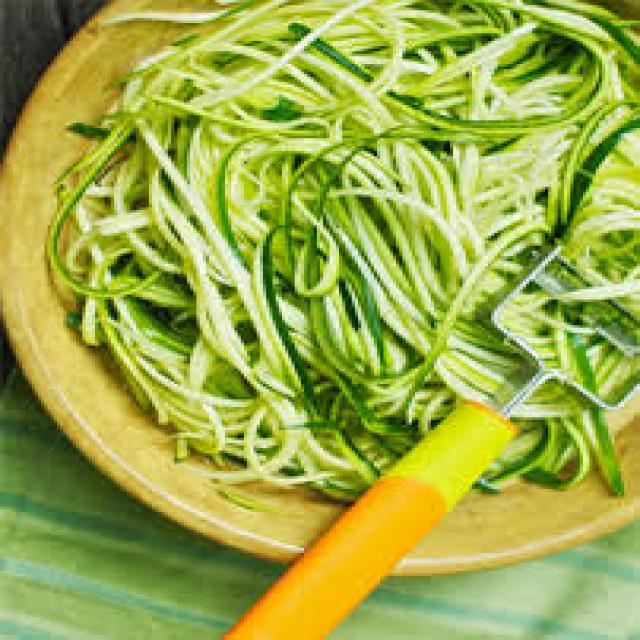Zucchini: (160, 180, 307, 444)
